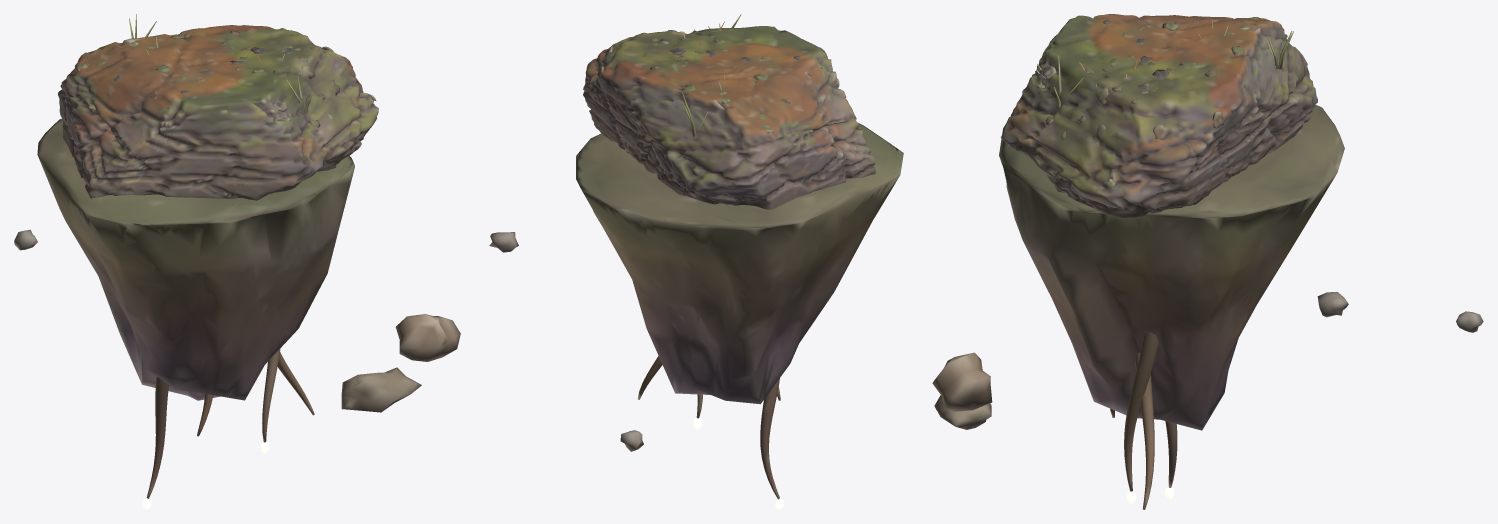
Rendered from ucan_kaya.glb.
3 renders of one model, left to right at view 1: azimuth 30°, elevation 25°; view 2: azimuth 150°, elevation 25°; view 3: azimuth 270°, elevation 25°, orthographic. The views are drawn at different scales.
Parts seen in each view (by area): view 1: ucan_kaya_LOD0; view 2: ucan_kaya_LOD0; view 3: ucan_kaya_LOD0.
Boxes of the visible parts, bbox=[...] form: ucan_kaya_LOD0: bbox=[14, 14, 460, 509]; ucan_kaya_LOD0: bbox=[489, 14, 903, 509]; ucan_kaya_LOD0: bbox=[932, 14, 1483, 509].
Size of what is drawn, in the model's own units: 2.54 by 3.47 by 3.52.
